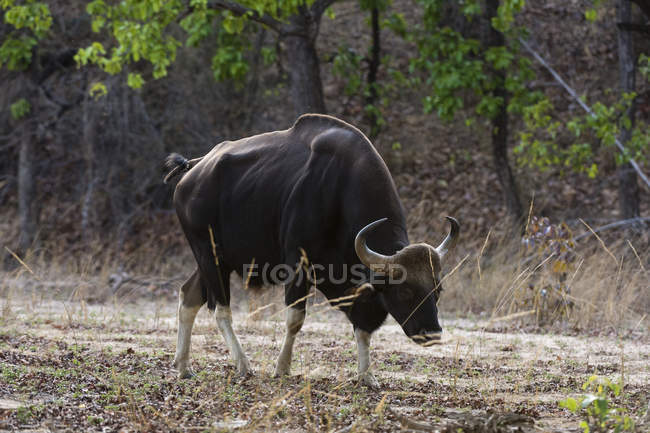bison: (161, 107, 465, 380)
